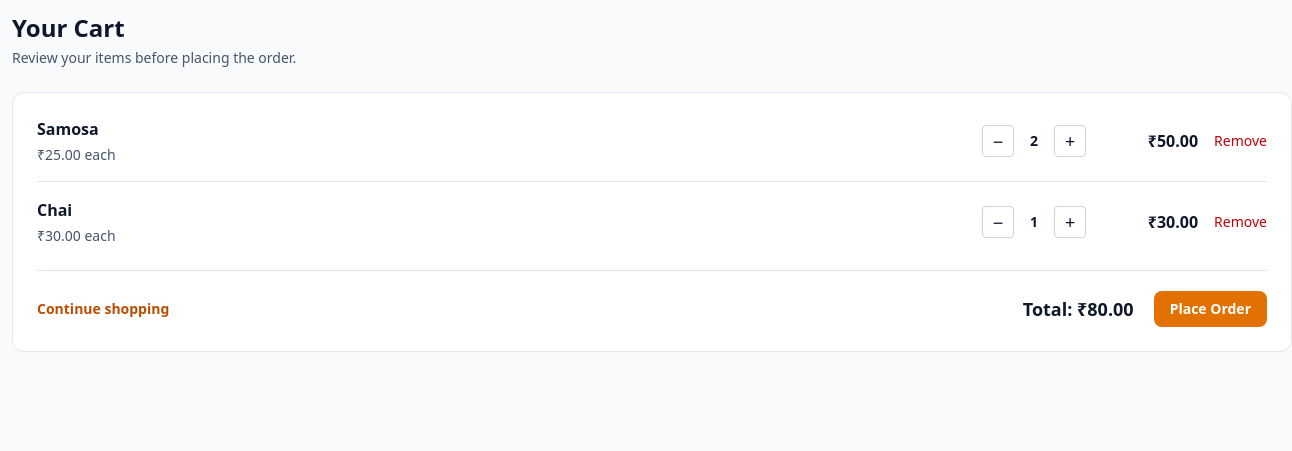
Test case: Increment 2: cart editing and checkout UI › keeps items and retries with the same idempotency key after a failed placement
This screenshot has width=1292, height=451.
Click the button "Place Order". click: point(1210, 309)
box: [1154,291,1267,327]
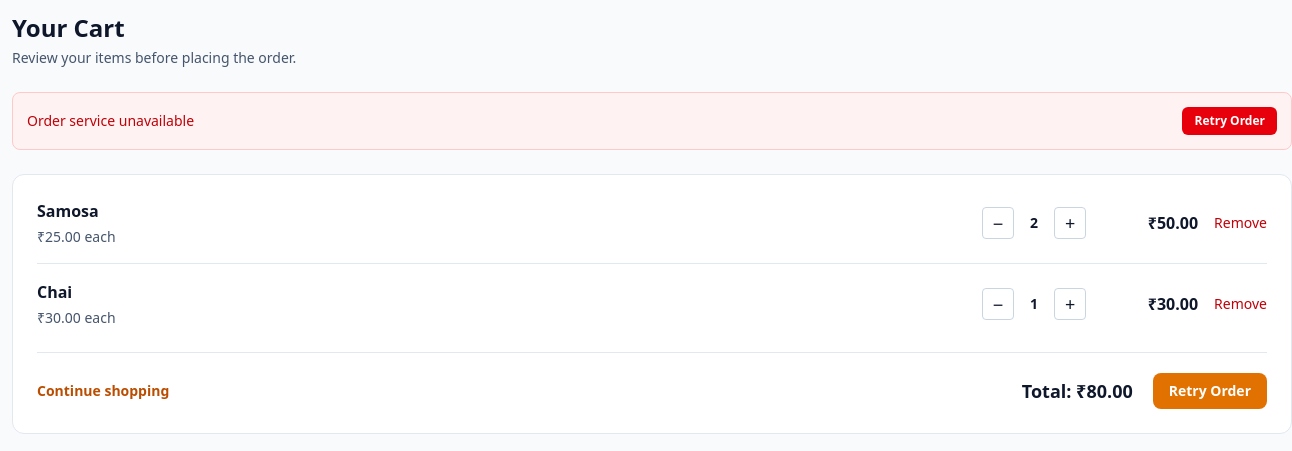
Check: the text "Total: ₹80.00" is shown, box [1022,377,1133,405]
Check: the message shows "Order service unavailable", box [27,111,194,130]
Click the button "Retry Order" in the row of "Order service unavailable". click: point(1230, 121)
box: [1182,107,1277,135]
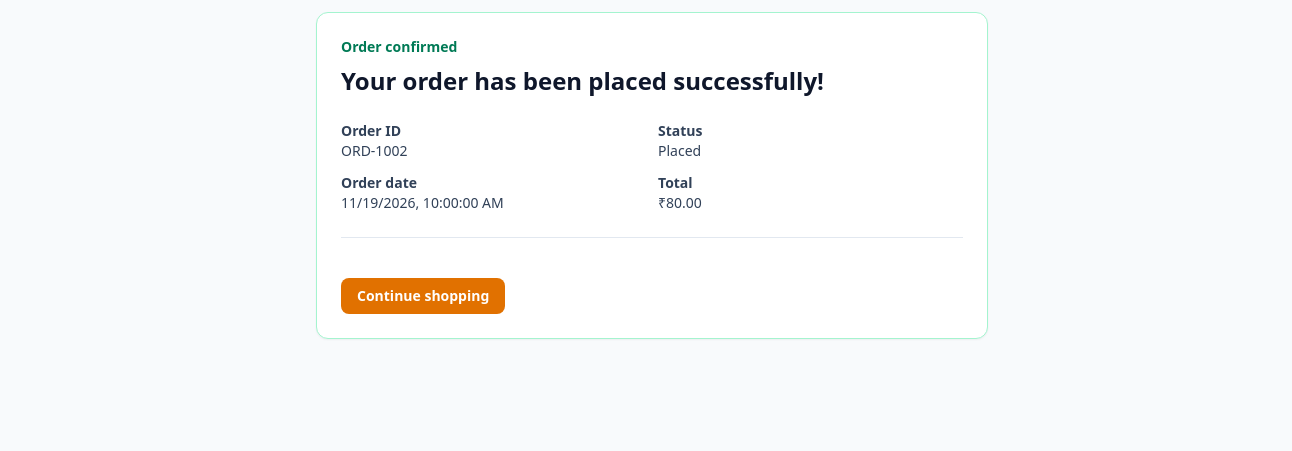
Check: the text "ORD-1002" is shown, box [341,141,407,160]
